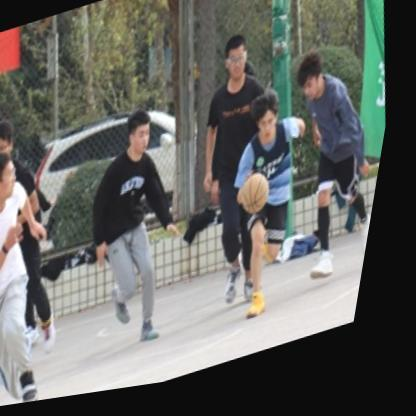basketball: (243, 177, 283, 227)
